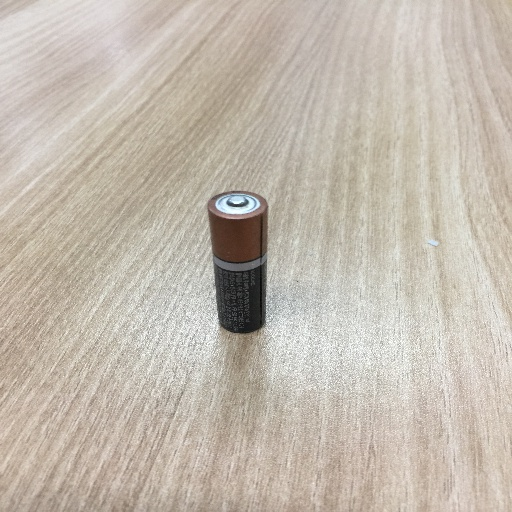Battery_0: (198, 184, 285, 344)
